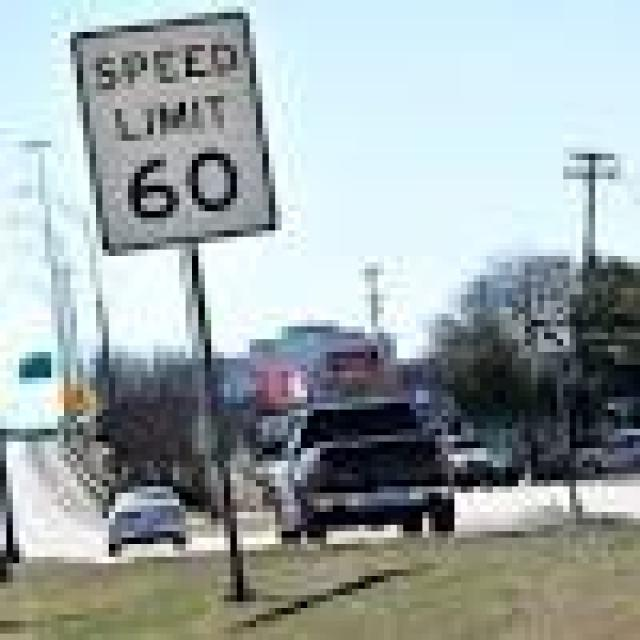speedLimit60: (102, 13, 256, 262)
